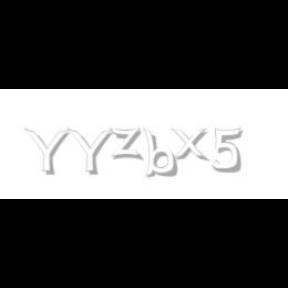5: (212, 128, 242, 174)
Y: (24, 128, 70, 176), (67, 128, 113, 176)
b: (143, 128, 181, 178)
x: (171, 128, 213, 162)
z: (109, 128, 145, 160)
